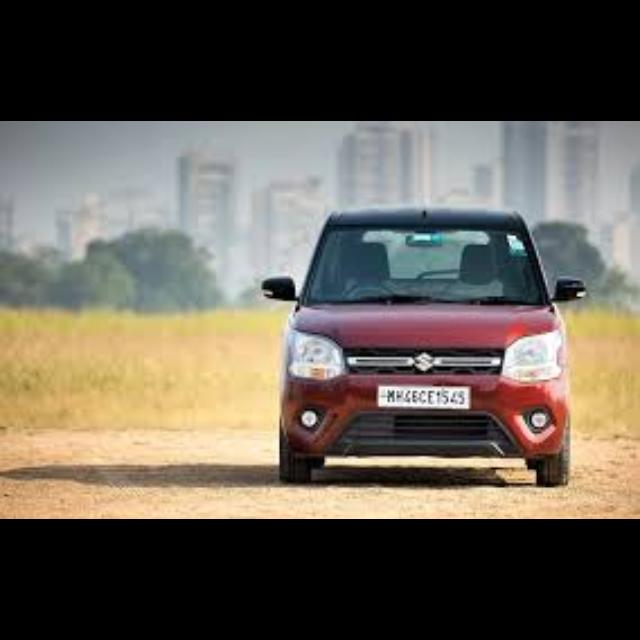number-plate: (374, 385, 469, 410)
vehicles: (248, 200, 588, 491)
